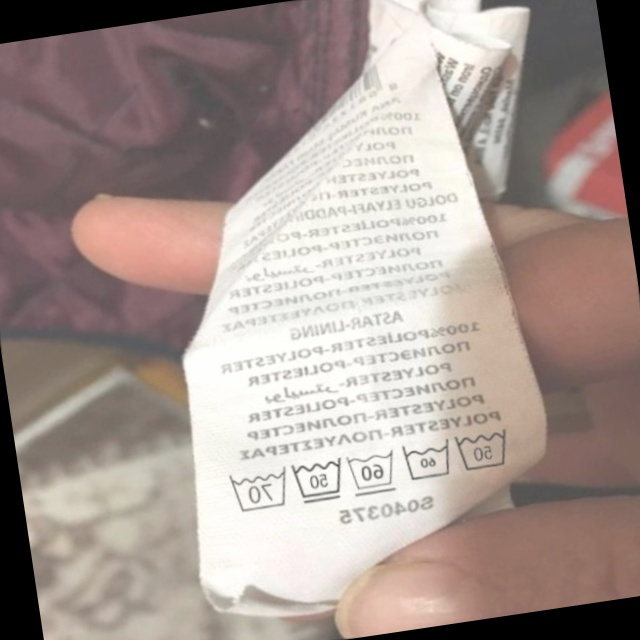50C: (448, 418, 519, 479), (285, 451, 350, 510)
60C: (340, 443, 401, 500), (395, 433, 457, 489)
70C: (220, 462, 292, 518)
